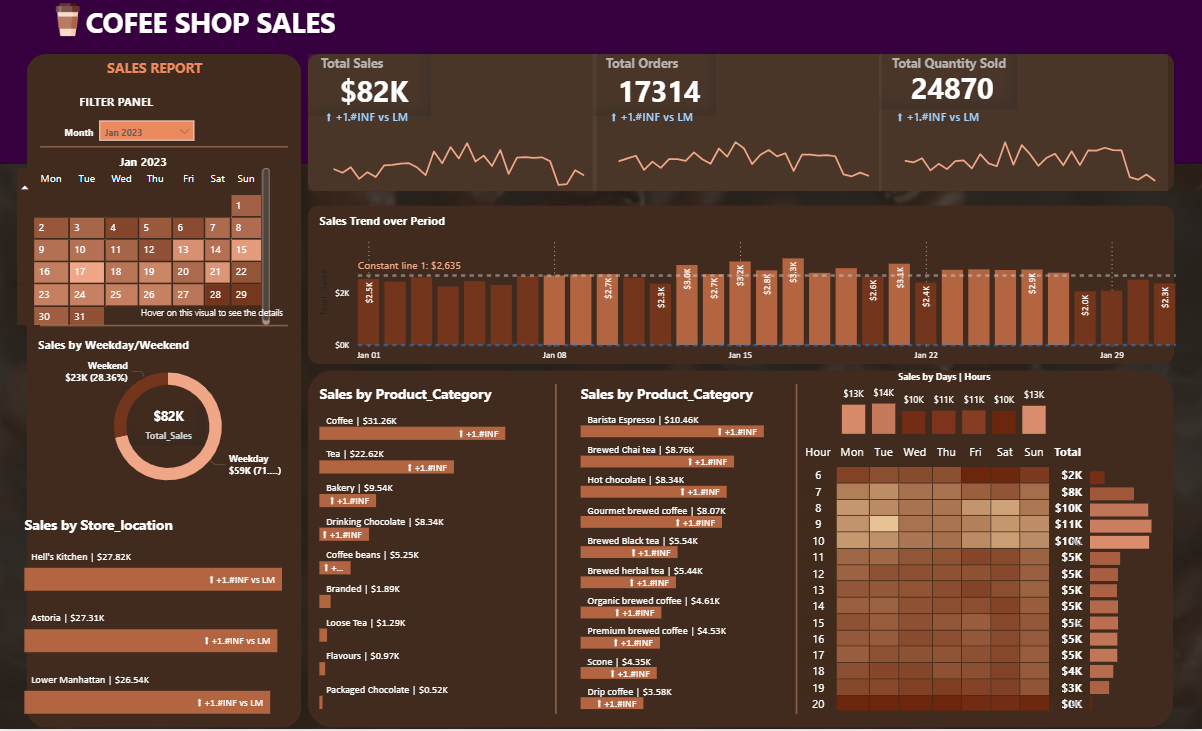

The dashboard page shown, as its layout file describes it:
{"tool":"powerbi","page":{"name":"Coffee_Sales","canvas":[1400,850],"ordinal":0},"visuals":[{"type":"shape","box":[-8,0,1408,192],"z":0},{"type":"shape","box":[32,64,320,784],"z":1000},{"type":"shape","box":[359,64,1008,160],"z":2000},{"type":"textbox","box":[96,0,320,64],"z":3000},{"type":"card","title":"Total Sales","fields":{"Values":["Date Table.Total_Sales"]},"box":[359.1,64,144,72],"z":4000,"group":"g1"},{"type":"card","title":"Total Orders","fields":{"Values":["Date Table.Total_Orders"]},"box":[691.6,64,144,72],"z":4000,"group":"g2"},{"type":"card","title":"Total Quantity Sold","fields":{"Values":["Date Table.Total_Quantity_Sold"]},"box":[1024,64,160,64],"z":4000,"group":"g3"},{"type":"slicer","fields":{"Values":["Date Table.Month_Year"]},"box":[112,136,120,40],"z":4000},{"type":"card","title":"Total Sales","fields":{"Values":["Date Table.Total_Sales"]},"box":[144,472,96,48],"z":5000},{"type":"group","id":"g1","title":"Group 1","box":[359.1,64,336,160],"z":6000},{"type":"lineChart","fields":{"Category":["Date Table.Date.Variation.Date Hierarchy.Year","Date Table.Date.Variation.Date Hierarchy.Quarter","Date Table.Date.Variation.Date Hierarchy.Month","Date Table.Date.Variation.Date Hierarchy.Day"],"Y":["Date Table.Total_Sales"]},"box":[375.1,128,320,96],"z":6000,"group":"g1"},{"type":"lineChart","fields":{"Category":["Date Table.Date.Variation.Date Hierarchy.Year","Date Table.Date.Variation.Date Hierarchy.Quarter","Date Table.Date.Variation.Date Hierarchy.Month","Date Table.Date.Variation.Date Hierarchy.Day"],"Y":["Date Table.Total_Orders"]},"box":[707.6,128,320,96],"z":6000,"group":"g2"},{"type":"lineChart","fields":{"Category":["Date Table.Date.Variation.Date Hierarchy.Year","Date Table.Date.Variation.Date Hierarchy.Quarter","Date Table.Date.Variation.Date Hierarchy.Month","Date Table.Date.Variation.Date Hierarchy.Day"],"Y":["Date Table.Total_Quantity_Sold"]},"box":[1040,128,320,96],"z":6000,"group":"g3"},{"type":"group","id":"g2","title":"Group 1","box":[691.6,64,336,160],"z":7000},{"type":"group","id":"g3","title":"Group 1","box":[1024,64,336,160],"z":8000},{"type":"pivotTable","fields":{"Columns":["Date Table.Day Name"],"Rows":["Date Table.Week No"],"Values":["Min(Date Table.Day_No)"]},"box":[16,192,304,192],"z":9000},{"type":"card","fields":{"Values":["Min(Date Table.Month_Year)"]},"box":[64,160,208,64],"z":10000},{"type":"card","fields":{"Values":["Date Table.Foot Note"]},"box":[128,336,240,64],"z":11000},{"type":"shape","box":[48,368,288,24],"z":12000},{"type":"shape","box":[48,160,288,24],"z":13000},{"type":"donutChart","title":"Sales by Weekday/Weekend","fields":{"Category":["Date Table.Weekday/Weekend"],"Y":["Date Table.Total_Sales"]},"box":[40,392,312,192],"z":14000},{"type":"clusteredBarChart","title":"Sales by Store_location","fields":{"Category":["Transactions.store_location"],"Y":["Date Table.PlaceHolder","Date Table.Total_Sales"]},"box":[24,600,336,240],"z":15000},{"type":"shape","box":[359,240,1008,185],"z":16000},{"type":"columnChart","title":"Sales Trend over Period ","fields":{"Category":["Transactions.transaction_date"],"Y":["Date Table.Total_Sales"]},"box":[368,248,1008,192],"z":17000},{"type":"shape","box":[359,432,1007,416],"z":18000},{"type":"clusteredBarChart","title":"Sales by Product_Category","fields":{"Y":["Date Table.PlaceHolder","Date Table.Total_Sales"],"Category":["Transactions.product_category"]},"box":[368,448,256,384],"z":19000},{"type":"shape","box":[624,448,48,384],"z":20000},{"type":"clusteredBarChart","title":"Sales by Product_Category","fields":{"Y":["Date Table.PlaceHolder","Date Table.Total_Sales"],"Category":["Transactions.product_type"]},"box":[672,448,256,384],"z":21000},{"type":"shape","box":[896,448,64,384],"z":22000},{"type":"pivotTable","fields":{"Rows":["Transactions.Hour"],"Columns":["Date Table.Day Name"],"Values":["Date Table.Total_Sales"]},"box":[928,512,352,336],"z":23000},{"type":"clusteredBarChart","fields":{"Category":["Transactions.Hour"],"Y":["Date Table.Total_Sales"]},"box":[1240,536,136,304],"z":24000},{"type":"columnChart","title":"Sales by Days | Hours","fields":{"Y":["Date Table.Total_Sales"],"Category":["Date Table.Day Name"]},"box":[976,432,248,80],"z":25000},{"type":"textbox","box":[71,140,56,31],"z":26000},{"type":"textbox","box":[120,64,144,32],"z":27000},{"type":"textbox","box":[88,104,144,40],"z":28000},{"type":"image","box":[48,0,64,48],"z":29000}]}

Visuals, with their boxes in screenshot pixels (x1, y1, x2, y2), scaled from the page's 1400x850 canvas onto the 1202x731 screenshot:
shape: 0/0/1201/165
shape: 27/55/302/729
shape: 308/55/1174/193
textbox: 82/0/357/55
"Total Sales" card: 308/55/432/117
"Total Orders" card: 594/55/717/117
"Total Quantity Sold" card: 879/55/1017/110
slicer - Date Table.Month_Year: 96/117/199/151
"Total Sales" card: 124/406/206/447
"Group 1" group: 308/55/597/193
lineChart - Date Table.Date.Variation.Date Hierarchy.Year x Date Table.Date.Variation.Date Hierarchy.Quarter: 322/110/597/193
lineChart - Date Table.Date.Variation.Date Hierarchy.Year x Date Table.Date.Variation.Date Hierarchy.Quarter: 608/110/882/193
lineChart - Date Table.Date.Variation.Date Hierarchy.Year x Date Table.Date.Variation.Date Hierarchy.Quarter: 893/110/1168/193
"Group 1" group: 594/55/882/193
"Group 1" group: 879/55/1168/193
pivotTable - Date Table.Day Name x Date Table.Week No: 14/165/275/330
card - Min(Date Table.Month_Year): 55/138/234/193
card - Date Table.Foot Note: 110/289/316/344
shape: 41/316/288/337
shape: 41/138/288/158
"Sales by Weekday/Weekend" donutChart: 34/337/302/502
"Sales by Store_location" clusteredBarChart: 21/516/309/722
shape: 308/206/1174/366
"Sales Trend over Period " columnChart: 316/213/1181/378
shape: 308/372/1173/729
"Sales by Product_Category" clusteredBarChart: 316/385/536/716
shape: 536/385/577/716
"Sales by Product_Category" clusteredBarChart: 577/385/797/716
shape: 769/385/824/716
pivotTable - Transactions.Hour x Date Table.Day Name: 797/440/1099/729
clusteredBarChart - Transactions.Hour x Date Table.Total_Sales: 1065/461/1181/722
"Sales by Days | Hours" columnChart: 838/372/1051/440
textbox: 61/120/109/147
textbox: 103/55/227/83
textbox: 76/89/199/124
image: 41/0/96/41
